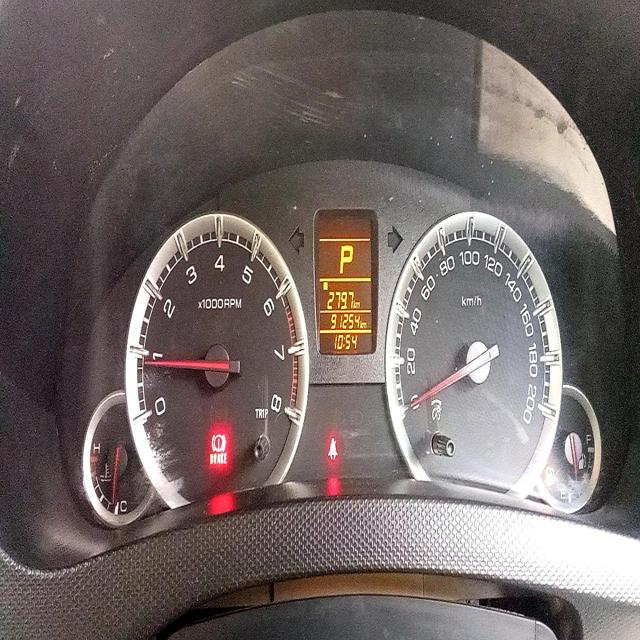odometer: (328, 309, 362, 333)
